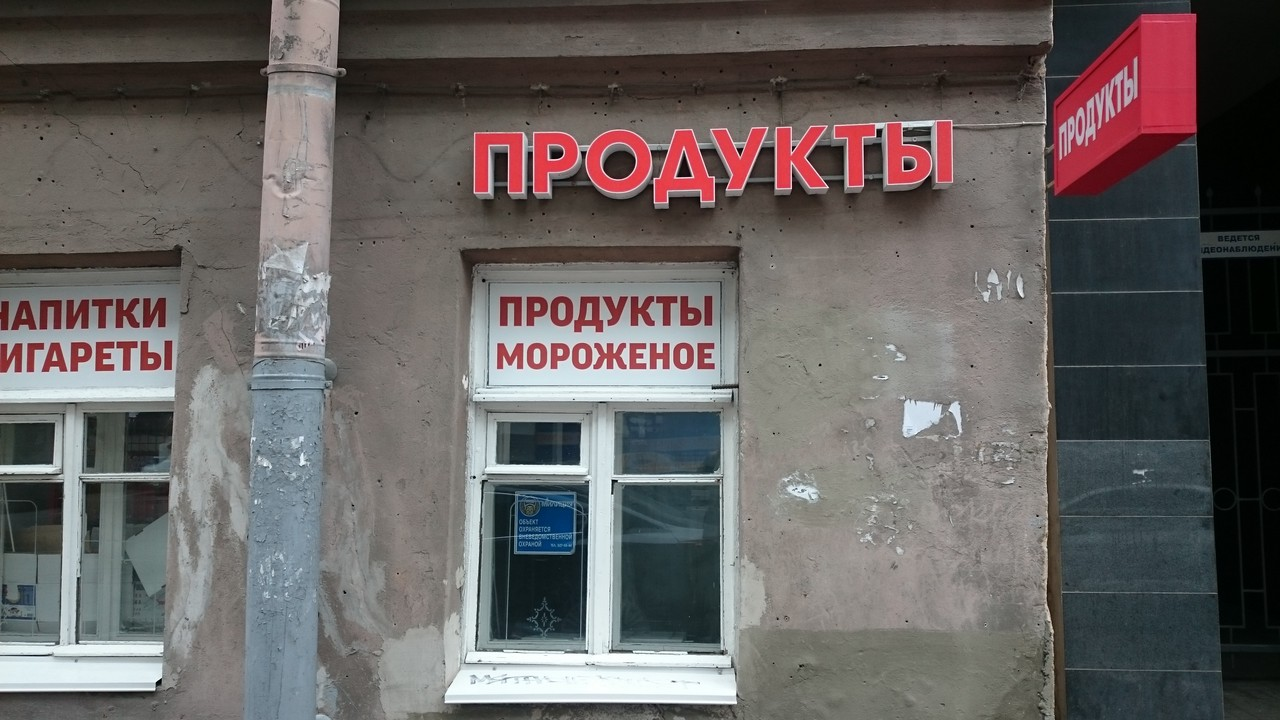cantilever: (1039, 7, 1191, 212)
signboard: (462, 121, 958, 207)
window: (467, 262, 728, 672), (1, 267, 174, 657)
